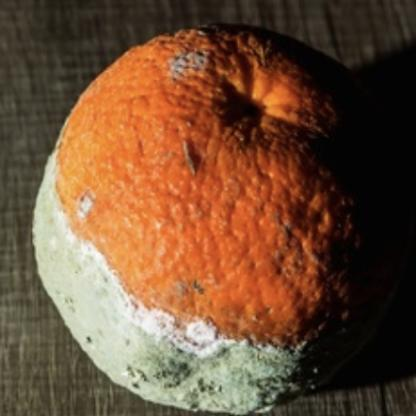rotten: (35, 24, 388, 416)
